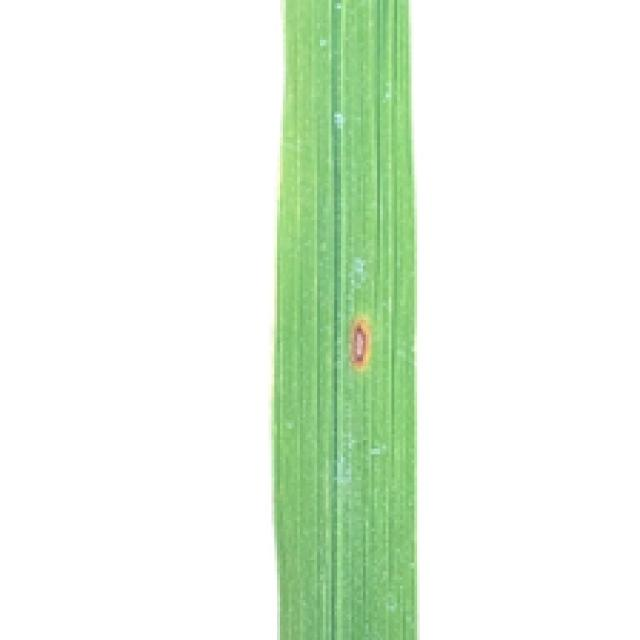Rice___Rice_Blast: (271, 0, 416, 637)
